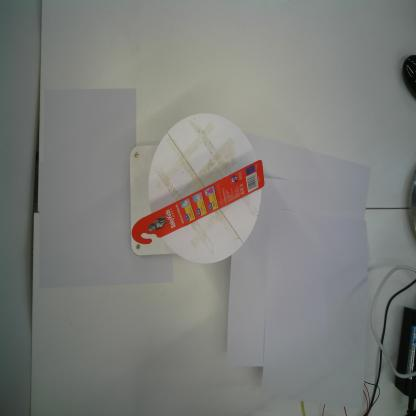Personal Hygiene: (131, 159, 265, 245)
